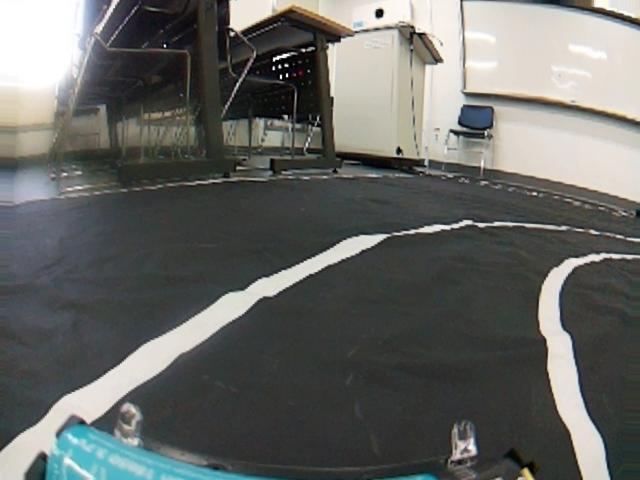right: (7, 216, 638, 480)
